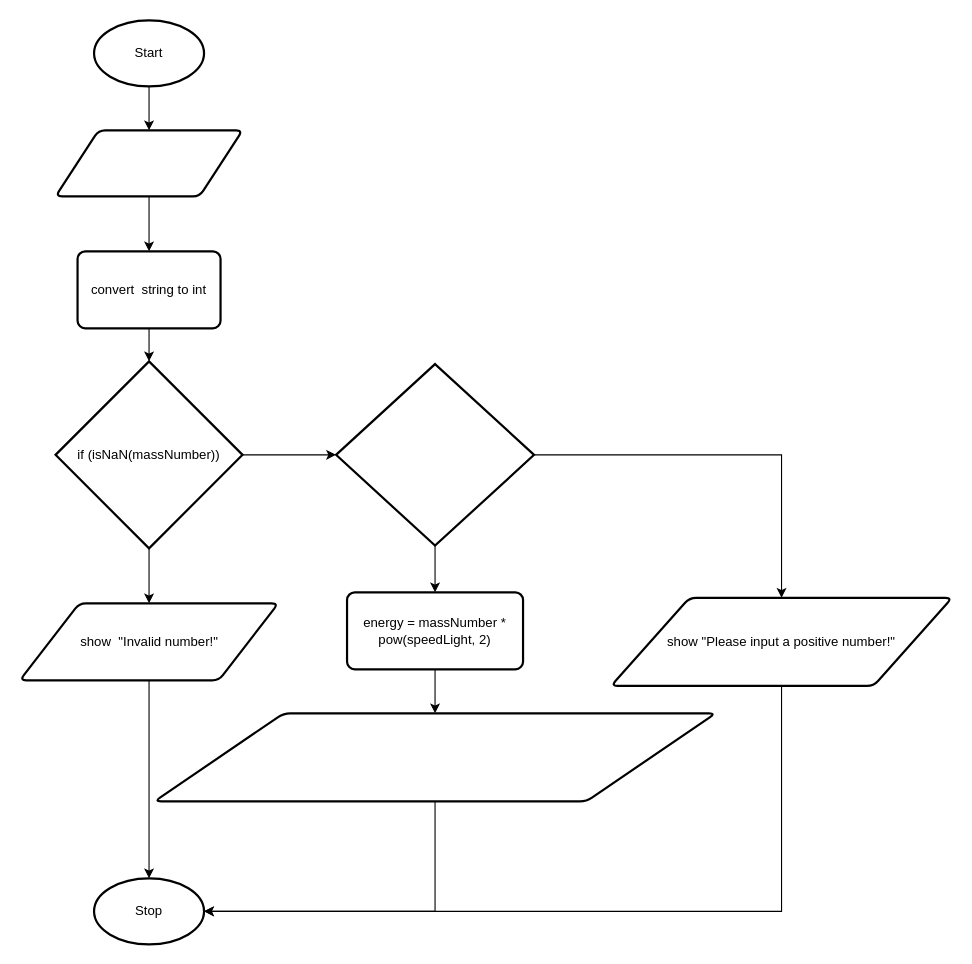
This 972x964 diagram has some shape labels left out. Each missing label, with the centre of its shape:
get massString: (x=148, y=163)
if (massNumber > 0): (x=434, y=454)
show "The energy which can be released from the object is energy.": (x=434, y=757)
